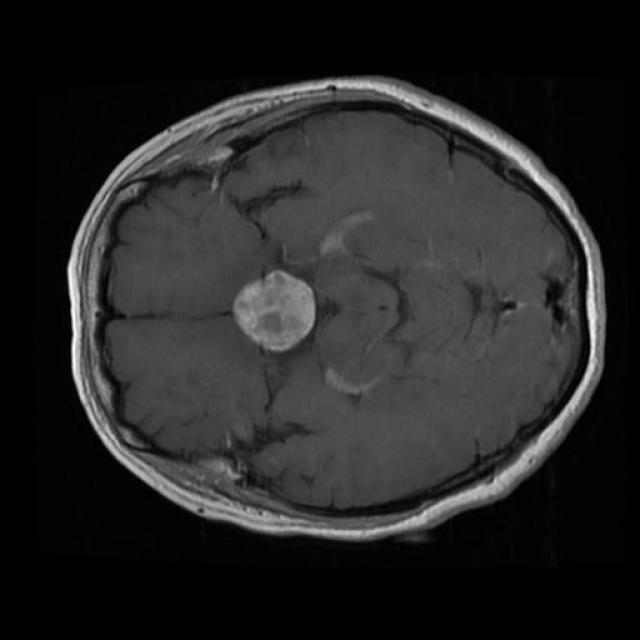Pituitary: (233, 271, 314, 352)
